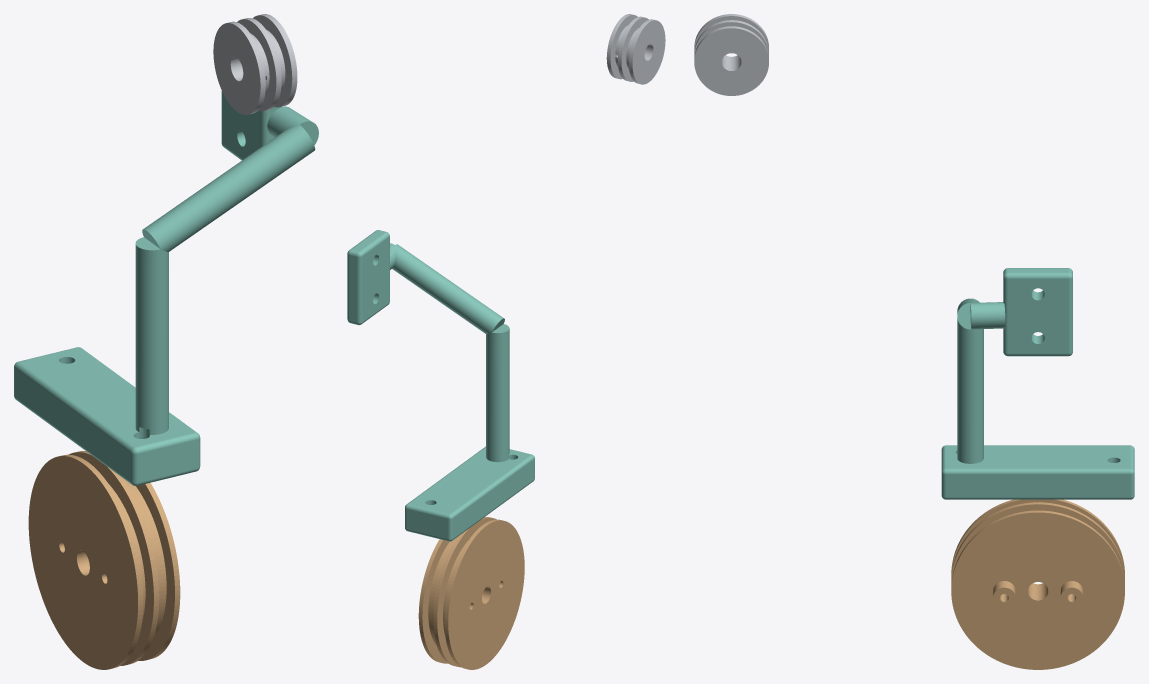
Rendered from Orthosis_V02_drive_concept.glb.
3 renders of one model, left to right at view 1: azimuth 30°, elevation 25°; view 2: azimuth 150°, elevation 25°; view 3: azimuth 270°, elevation 25°, orthographic. The views are drawn at different scales.
Visible parts, largest first — view 1: B02, B01, B03; view 2: B02, B01, B03; view 3: B01, B02, B03.
Boxes of the visible parts, x1,y1,x2,y2 form: B02: (14, 91, 318, 486); B01: (28, 451, 180, 669); B03: (213, 14, 297, 114); B02: (347, 230, 534, 541); B01: (418, 517, 524, 669); B03: (606, 14, 665, 84); B01: (951, 499, 1124, 669); B02: (941, 268, 1134, 499); B03: (694, 14, 768, 95).
Size of the model in its own units: 88.49 by 286 by 182.
